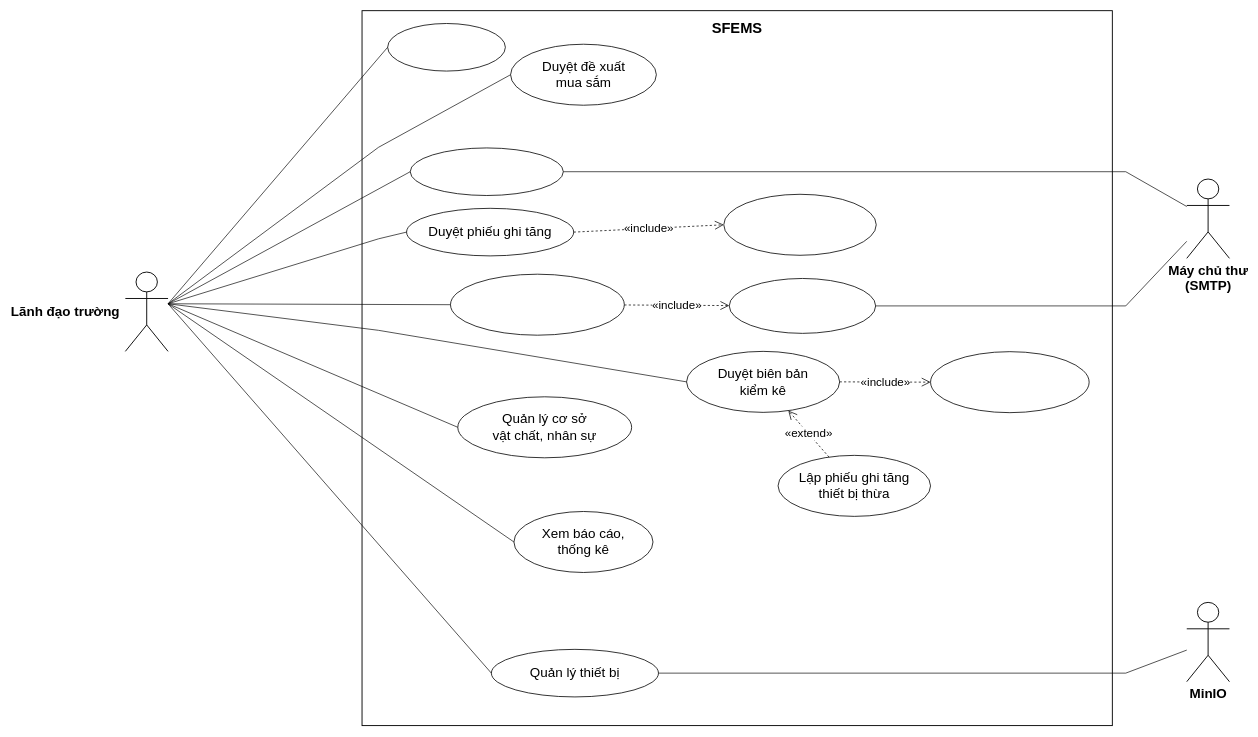
The diagram is 1258 pixels wide and 737 high, and some of its shapes have lost their labels. Here are the shapes that lost their labels. From the top down, the centre of each, then its label:
the point at 446,47: Đăng nhập
the point at 486,171: Nhận thông báo
the point at 799,224: Ghi tăng, sinh mã thiết bị
the point at 537,304: Cấp tài khoản cho cán bộ
the point at 802,305: Gửi thư mời đặt mật khẩu
the point at 1009,382: Cập nhật tình trạng thiết bị
